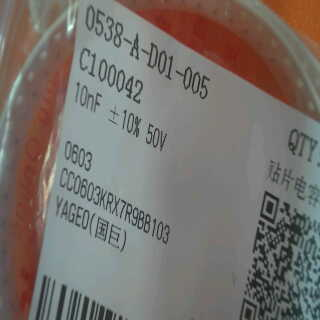10nF: (71, 79, 108, 116)
